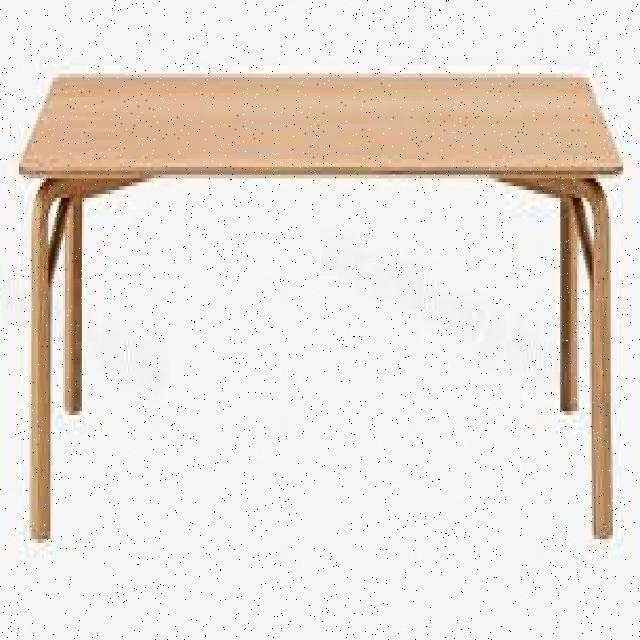mobile-phone: (19, 69, 624, 549)
